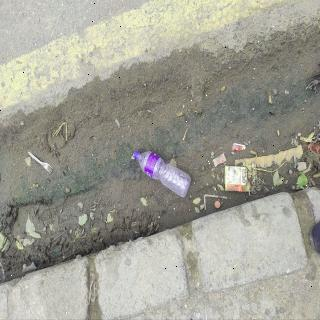Plastic-bottle: (134, 148, 194, 201)
